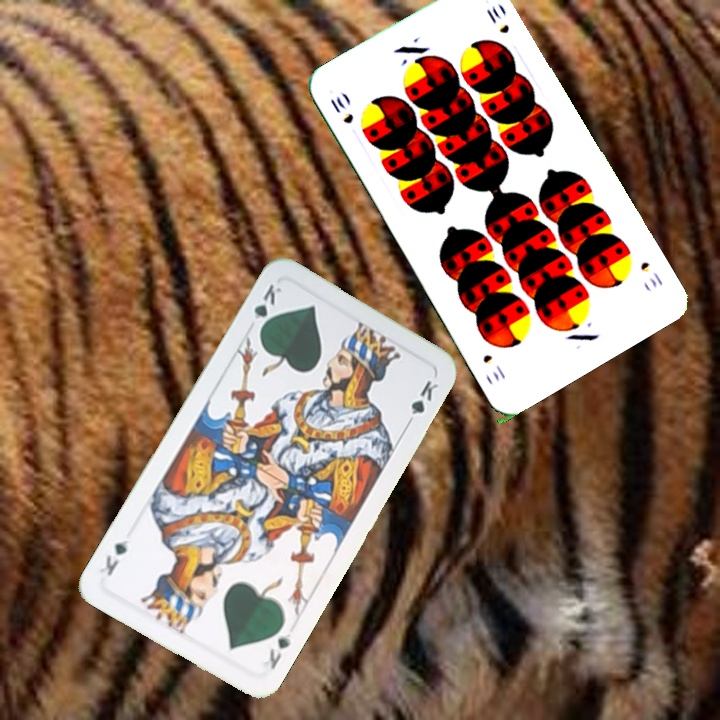GK: (249, 279, 285, 336), (258, 627, 294, 672)
S10: (326, 92, 356, 127), (636, 257, 666, 291)
